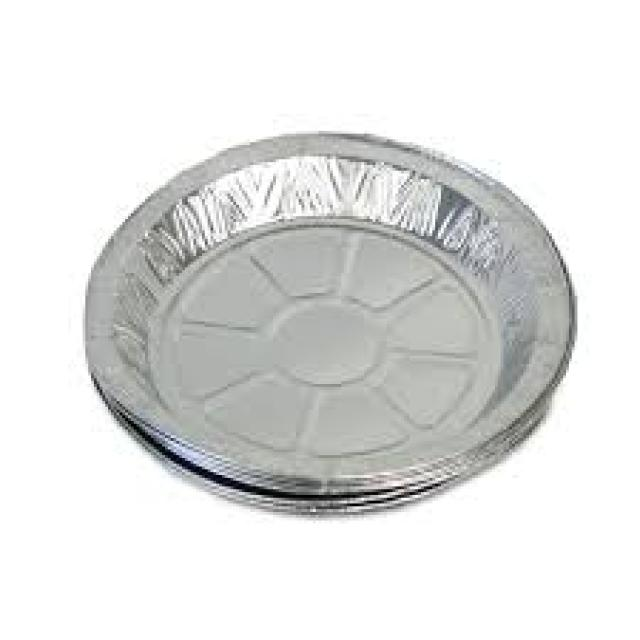metal: (80, 131, 575, 506)
